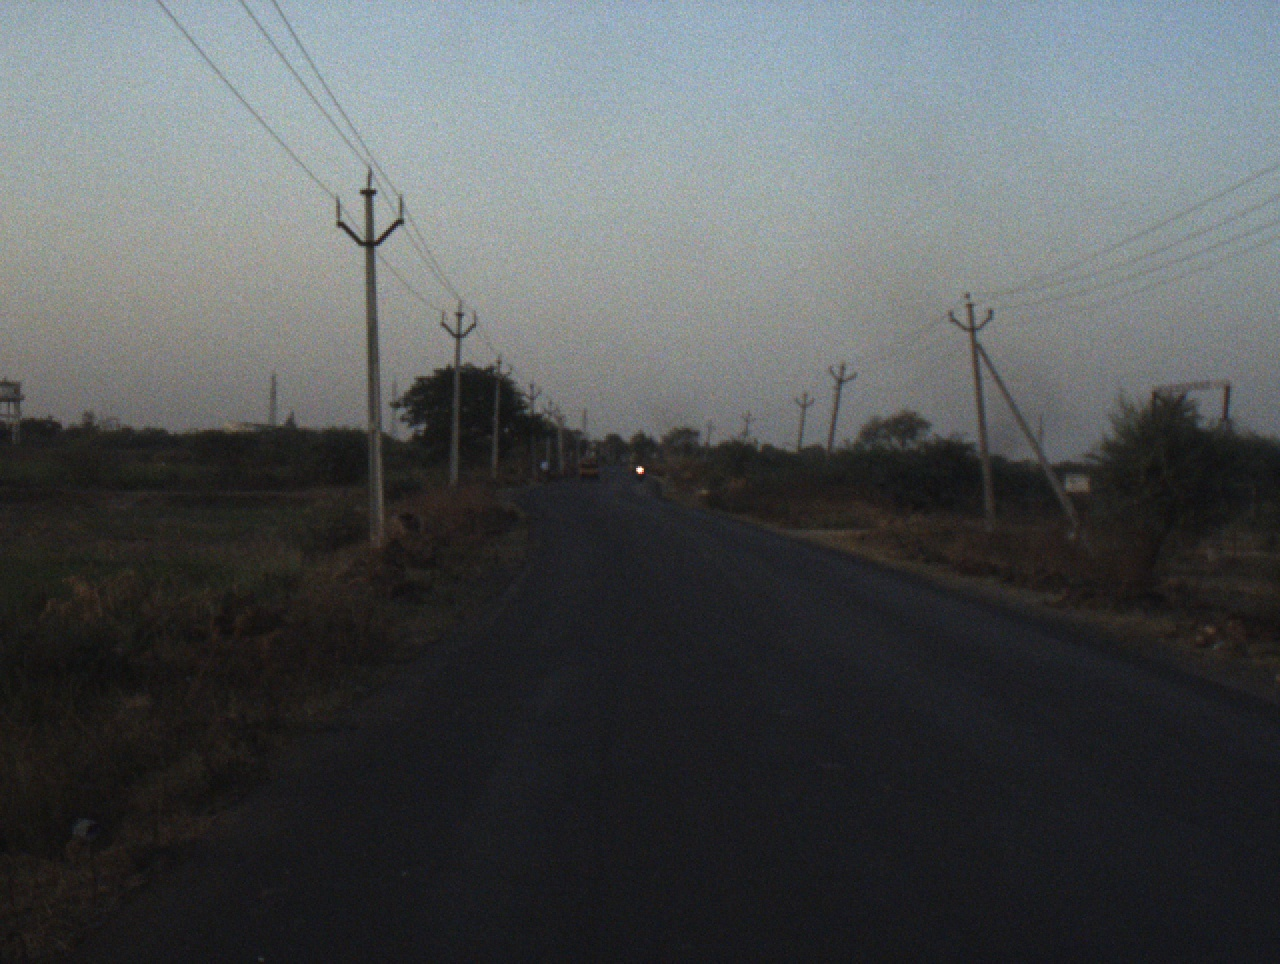truck: (572, 454, 604, 484)
vehicle fallback: (626, 456, 650, 484), (535, 457, 551, 481)
